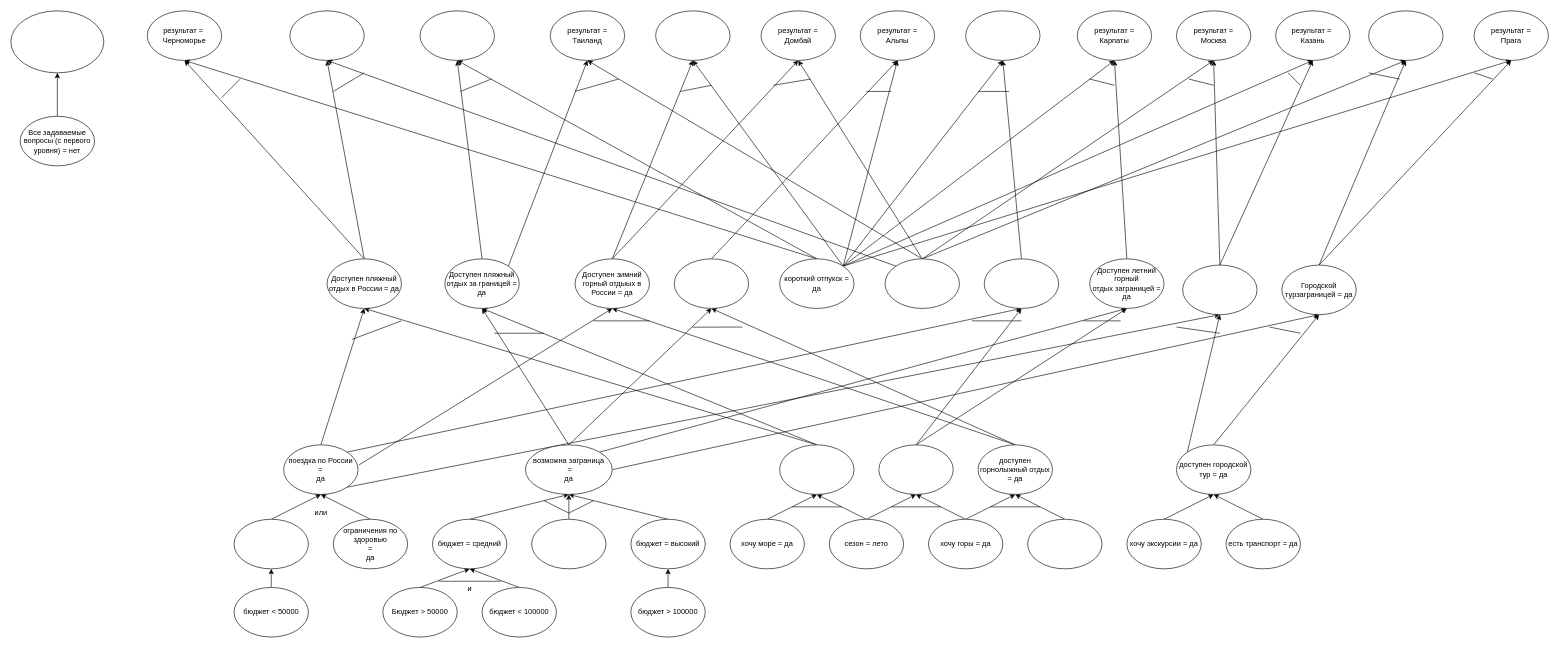
The diagram is 1559 pixels wide and 648 high, and some of its shapes have lost their labels. Each missing label, with the centre of its shape:
бюджет = низкий: (270,544)
Городской тур в России = да: (1219,289)
Доступен зимний горный отдых заграницей = да: (711,283)
доступен летний горный отдых = да: (915,469)
Доступен летний горный отдых в России = да: (1021,283)
доступен пляжный отдых = да: (816,469)
короткий отпуск = нет: (921,283)
ограничения по здоровью = нет: (568,544)
результат = Кавказ: (1002,35)
результат = Крым: (326,35)
Результат = Мы не можем подобрать рекомендацию исходя из ваших ответов: (57,41)
результат = Париж: (1405,35)
результат = Сочи: (692,35)
результат = Турция: (456,35)
сезон = зима: (1064,544)
